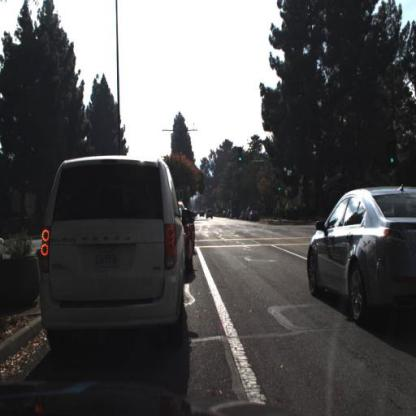car: (39, 151, 184, 360), (307, 177, 414, 343), (182, 202, 199, 270), (204, 204, 218, 225), (249, 207, 259, 222)
trafficLight-Green: (237, 147, 246, 168), (390, 143, 396, 163), (238, 146, 243, 167), (390, 148, 395, 169), (179, 187, 185, 201), (278, 176, 283, 192), (278, 181, 283, 197)
